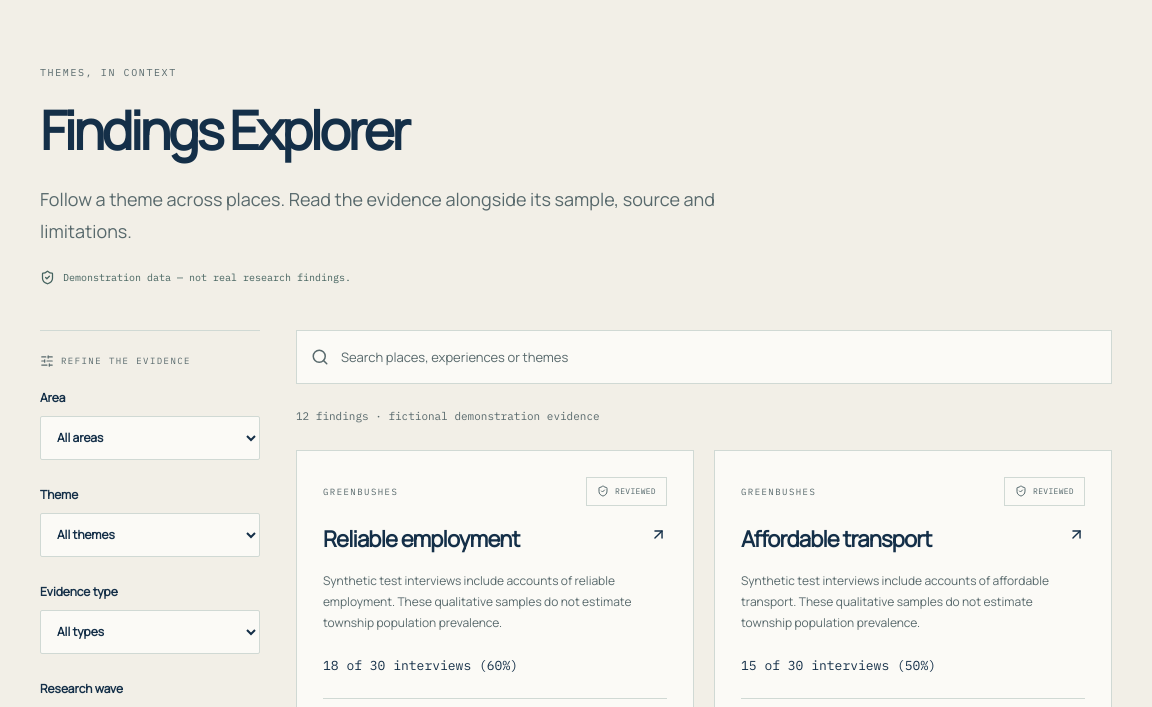
Scenario: archive interactions › combines text and area filters, reports empty results, and resets
Expected: the text "12 findings · fictional demonstration evidence" is shown, [296,409,600,423]
In the field named "Search findings": (719, 357) [341,335,1097,379], type "transport"
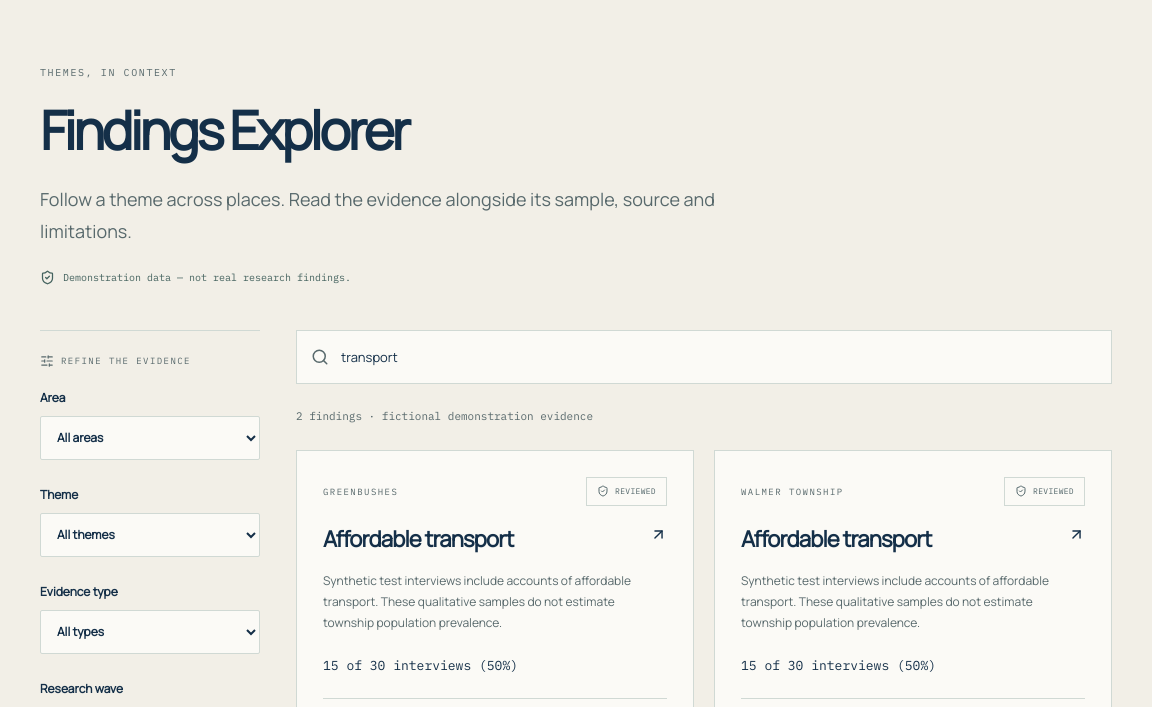
Expected: the text "2 findings · fictional demonstration evidence" is shown, [296,409,593,423]
Select "Greenbushes" in the dropdown labelled "Area": (150, 438) [40,416,260,460]
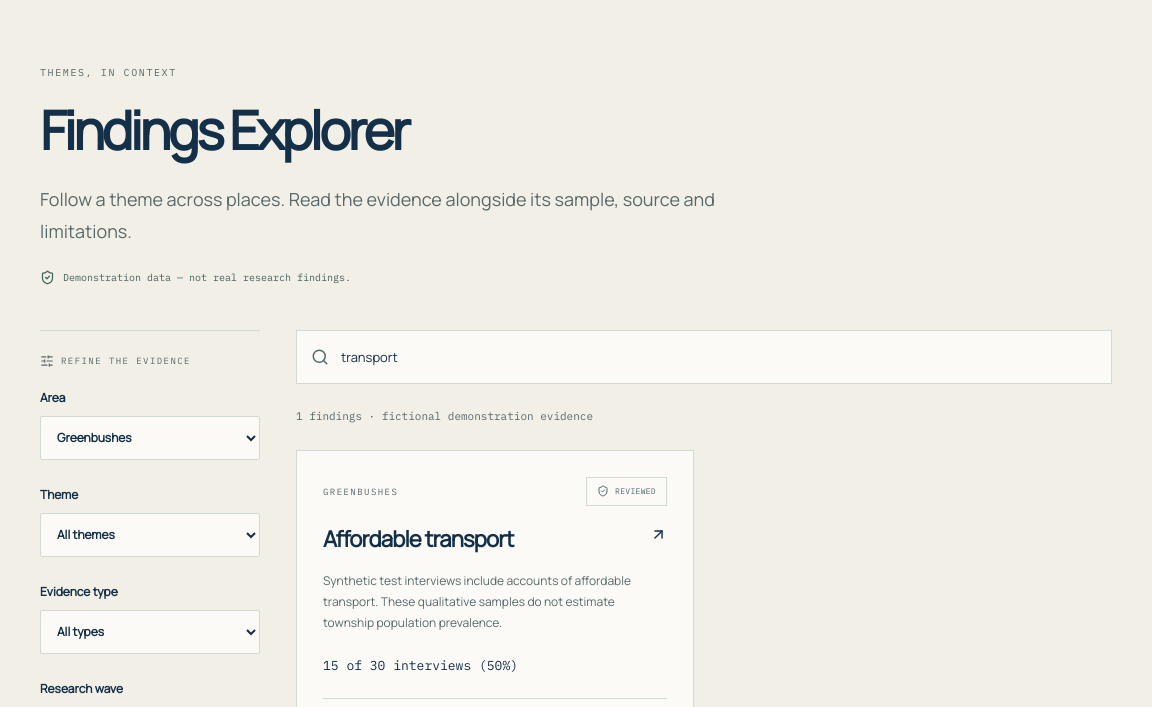
Now the text "1 findings · fictional demonstration evidence" is shown, box [296,409,593,423]
Replace the text in the field named "Search findings" with "no-such-evidence": (719, 357) [341,335,1097,379]
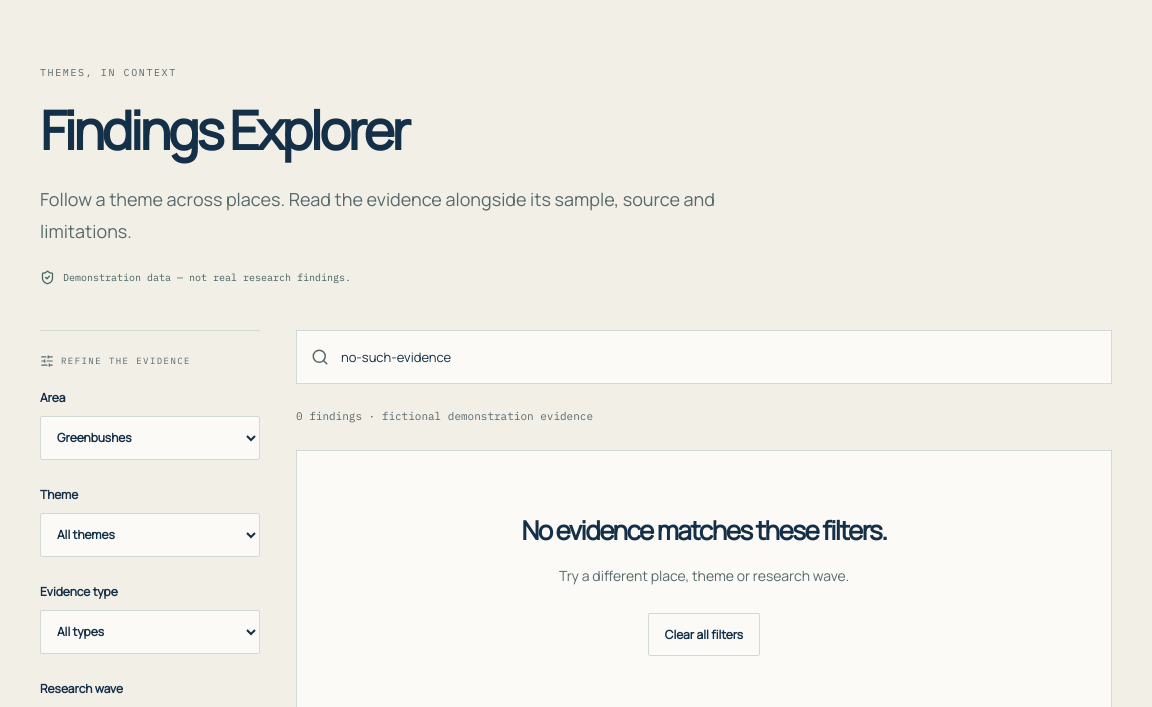
Now the heading "No evidence matches these filters." is shown, box [522,512,886,548]
Click the button "Clear all filters": (704, 634) [648,613,760,656]
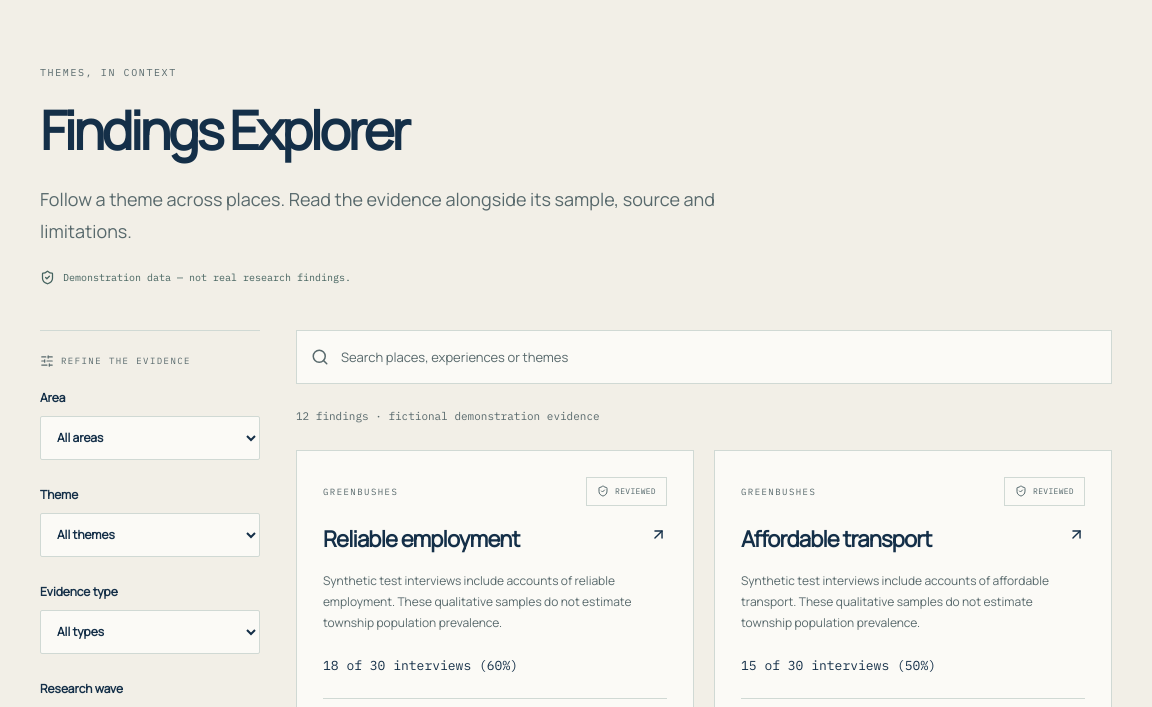
Now the text "12 findings · fictional demonstration evidence" is shown, box [296,409,600,423]
